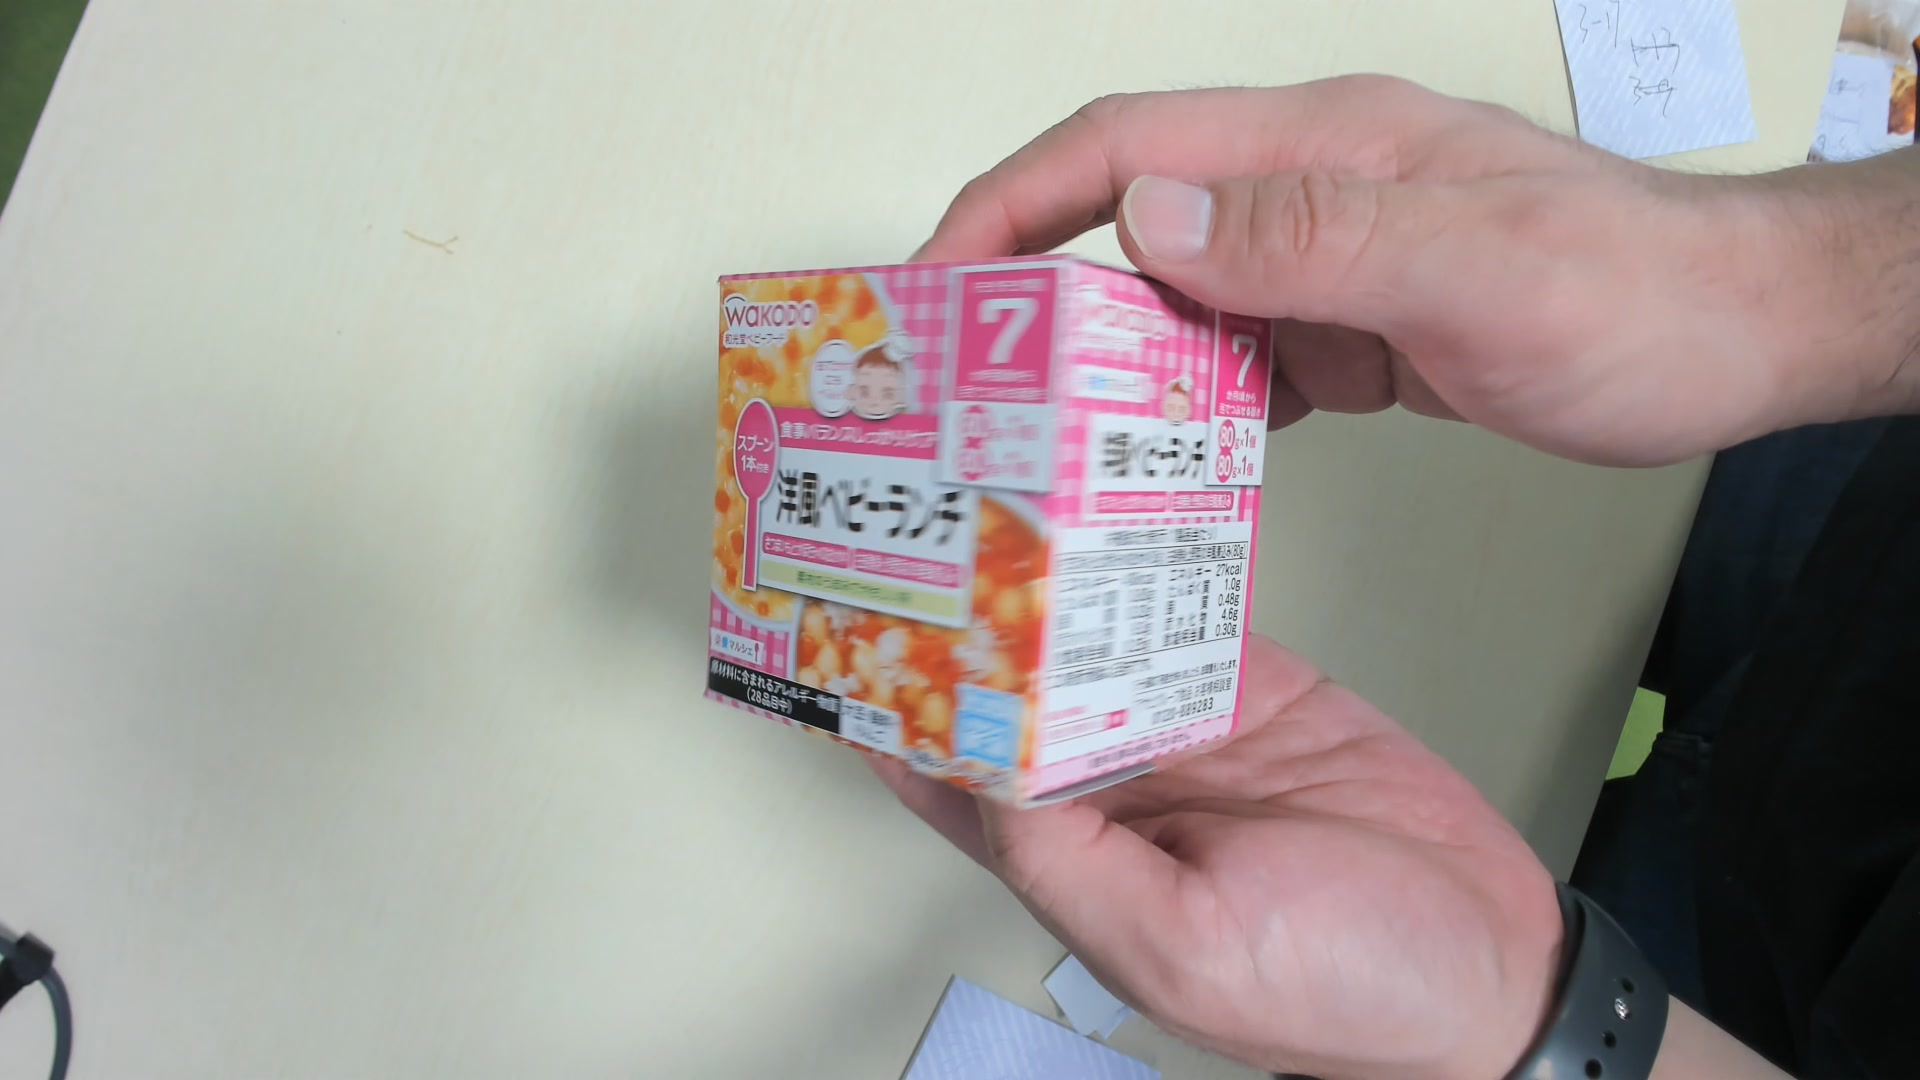InstantMeals_0-99g_NonHalal_NonHealthy: (705, 252, 1274, 810)
